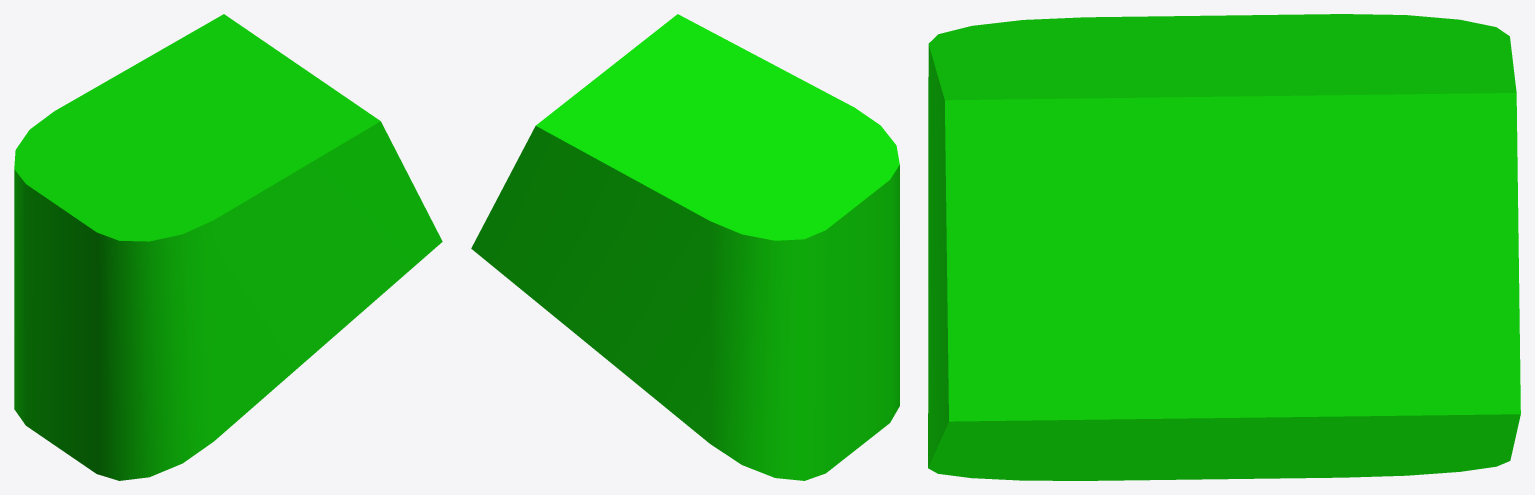
File: sm_castle_036.fbx
3 renders of one model, left to right at view 1: azimuth 30°, elevation 25°; view 2: azimuth 150°, elevation 25°; view 3: azimuth 270°, elevation 25°, orthographic. The views are drawn at different scales.
Visible parts, largest first — view 1: sm_castle.036; view 2: sm_castle.036; view 3: sm_castle.036.
Part boxes in pixels (left/top/right/bottom): sm_castle.036: left=14, top=14, right=442, bottom=480; sm_castle.036: left=471, top=14, right=899, bottom=480; sm_castle.036: left=928, top=14, right=1520, bottom=480.
Bounding box in the file's own units: 355 × 344 × 302.
